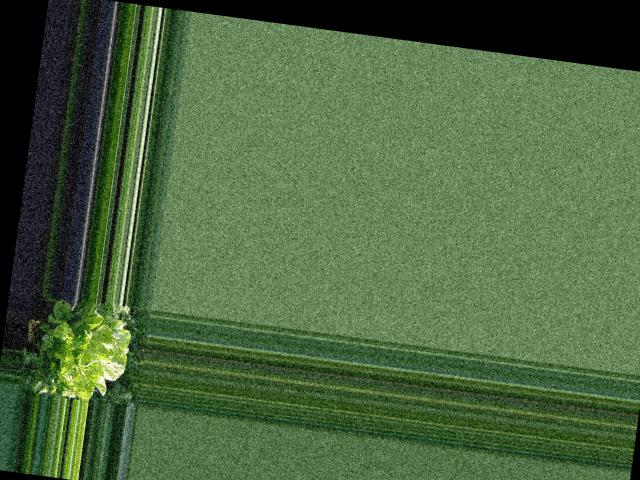lettuce: (38, 298, 132, 394)
